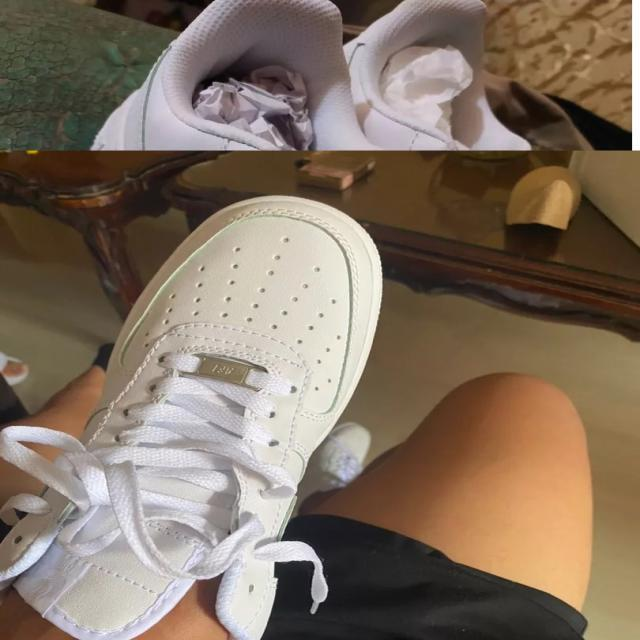nike fake air force: (0, 194, 387, 640)
